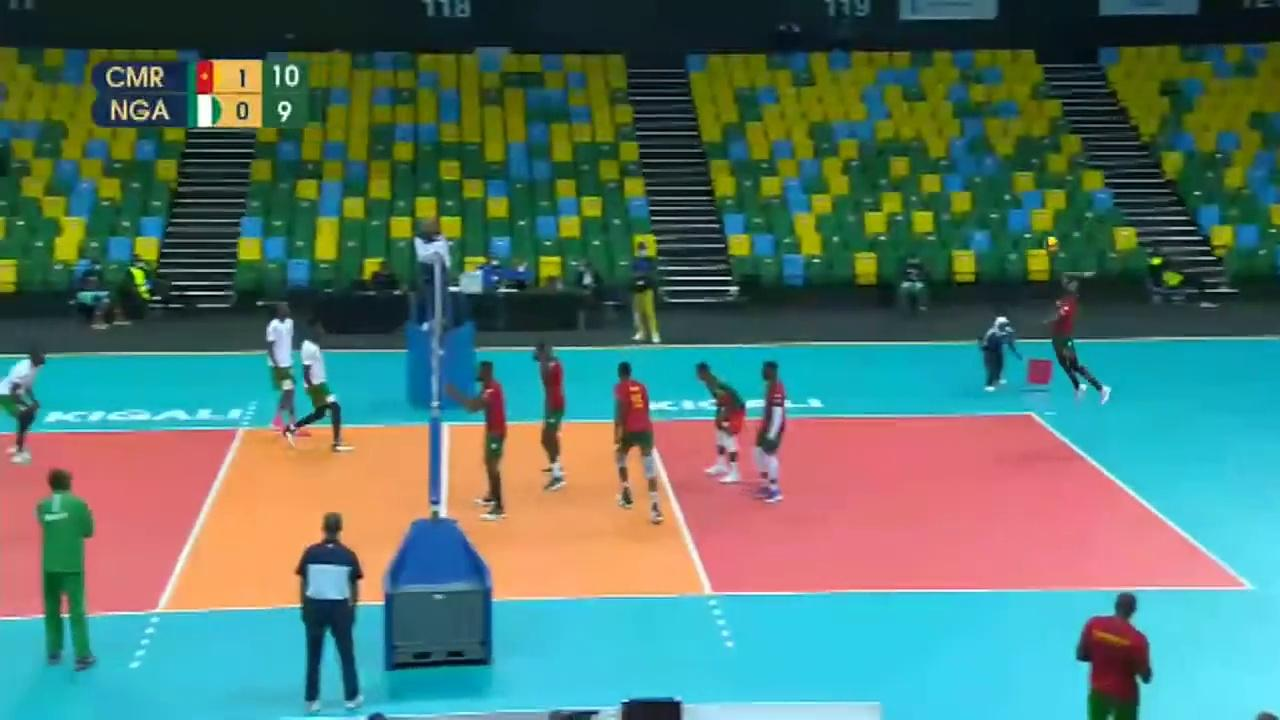player: (609, 364, 675, 518), (287, 319, 356, 447), (1043, 279, 1111, 402), (528, 335, 574, 494), (693, 361, 749, 486), (753, 361, 801, 502), (472, 357, 514, 514), (2, 348, 50, 469), (262, 305, 302, 435)
refree: (292, 511, 369, 716), (415, 220, 456, 323), (982, 313, 1021, 392)
